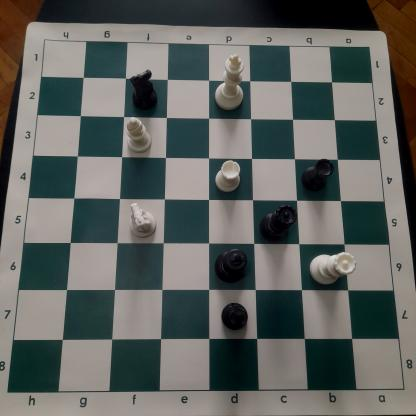black-bishop: (219, 300, 252, 334)
black-king: (211, 245, 249, 285)
black-knight: (128, 66, 160, 111)
black-queen: (259, 202, 299, 244)
black-rook: (300, 158, 334, 194)
white-bishop: (124, 116, 155, 154)
white-king: (211, 50, 247, 113)
white-knight: (125, 201, 158, 240)
white-queen: (307, 250, 357, 289)
white-rook: (211, 160, 245, 197)
